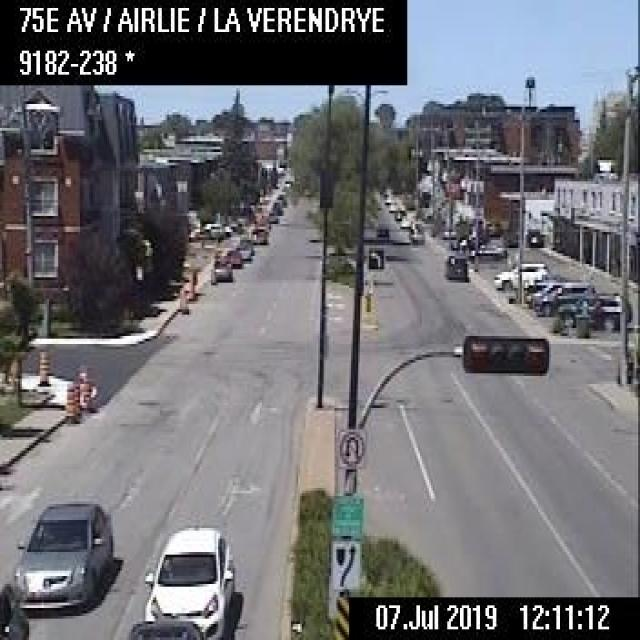construction: (76, 367, 90, 411), (175, 282, 187, 314), (64, 379, 74, 416), (36, 351, 48, 381), (71, 381, 80, 419), (184, 270, 192, 302)
vehicle: (12, 491, 111, 608), (141, 523, 235, 637), (558, 292, 629, 330), (532, 279, 594, 312), (492, 258, 546, 289), (469, 240, 504, 261), (442, 251, 467, 277), (211, 256, 232, 280), (248, 223, 266, 243), (234, 240, 250, 262), (225, 246, 241, 266), (408, 223, 426, 240), (398, 213, 414, 227), (258, 216, 270, 227), (266, 210, 276, 222), (388, 201, 398, 212), (394, 207, 404, 218)
